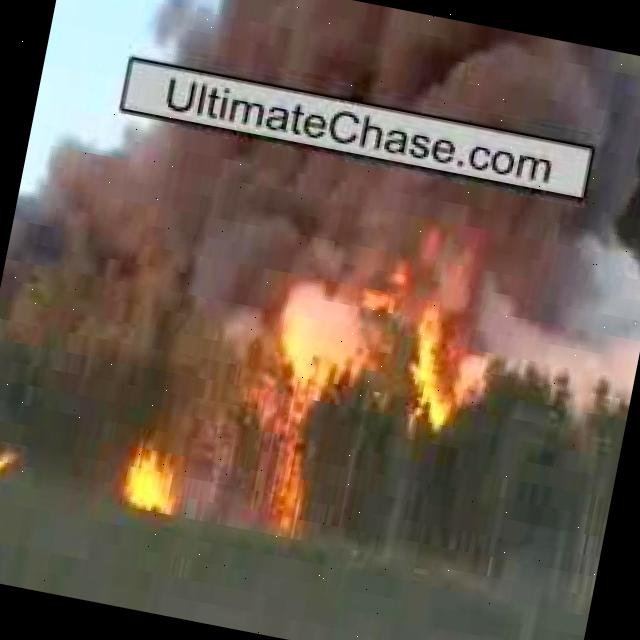fire: (379, 256, 509, 436), (240, 385, 342, 543), (124, 447, 187, 521), (0, 439, 20, 485)
